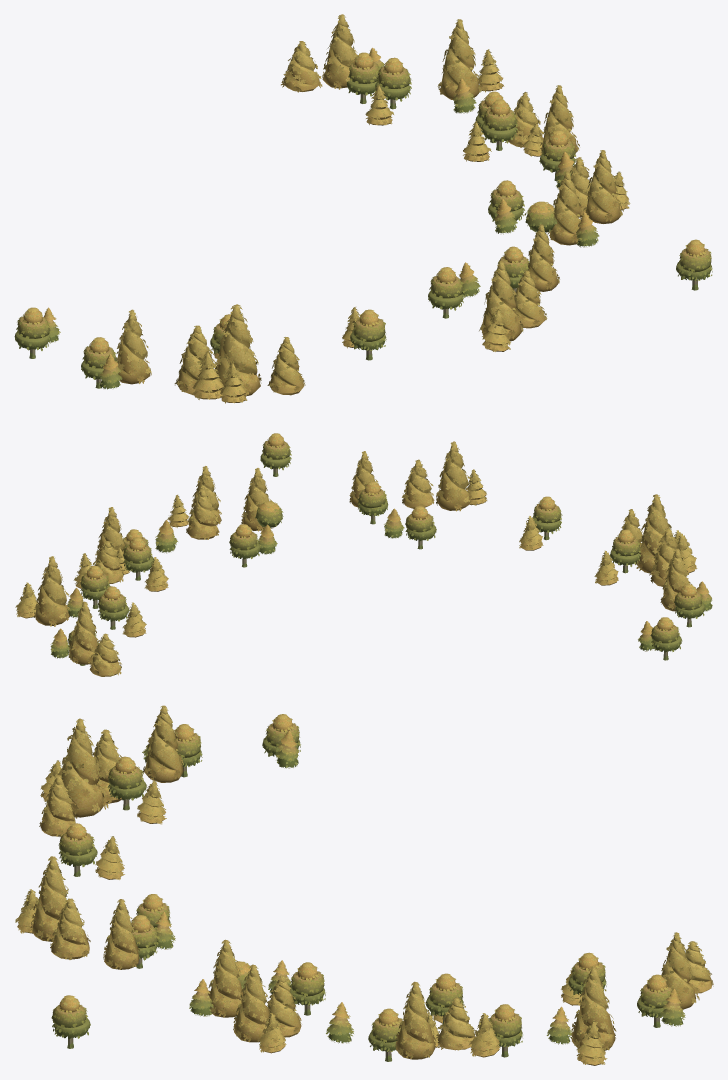
The model's file is pref_sm_garden_tree_vertexcolor_03_lv2.fbx.
3 renders of one model, top to bottom at view 1: azimuth 30°, elevation 25°; view 2: azimuth 150°, elevation 25°; view 3: azimuth 270°, elevation 25°, orthographic. The views are drawn at different scales.
Visible parts, largest first — view 1: pref_sm_garden_tree_vertexcolor_03_lv2; view 2: pref_sm_garden_tree_vertexcolor_03_lv2; view 3: pref_sm_garden_tree_vertexcolor_03_lv2.
Boxes of the visible parts, x1,y1,x2,y2 form: pref_sm_garden_tree_vertexcolor_03_lv2: [14, 14, 712, 403]; pref_sm_garden_tree_vertexcolor_03_lv2: [15, 433, 712, 676]; pref_sm_garden_tree_vertexcolor_03_lv2: [15, 705, 713, 1065].
Bounding box in the file's own units: 48.21 × 7.22 × 43.88.
